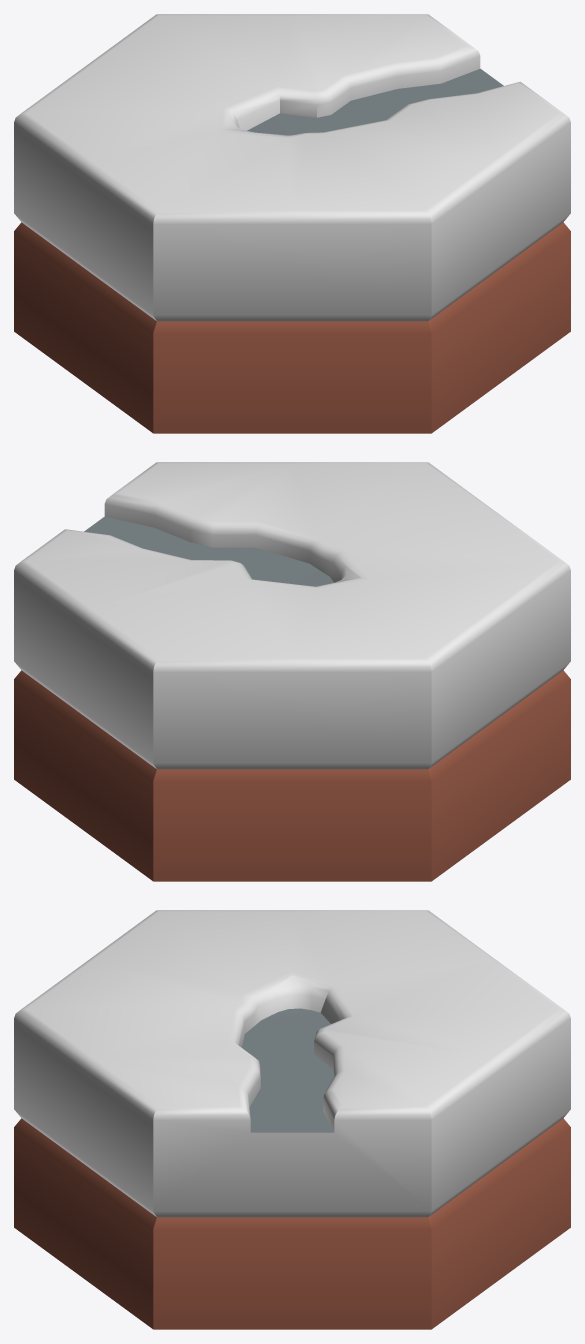
The model's file is hex_snow_roadA_detail.fbx.
The picture shows the model from 3 angles, top to bottom: view 1: azimuth 30°, elevation 25°; view 2: azimuth 150°, elevation 25°; view 3: azimuth 270°, elevation 25°; orthographic projection.
Visible parts, largest first — view 1: hex_snow_roadA_detail; view 2: hex_snow_roadA_detail; view 3: hex_snow_roadA_detail.
Part boxes in pixels (x1,y1,x2,y2): hex_snow_roadA_detail: (14, 14, 570, 433); hex_snow_roadA_detail: (14, 462, 570, 881); hex_snow_roadA_detail: (14, 910, 570, 1329).
Bounding box in the file's own units: 2 × 1 × 2.31.
